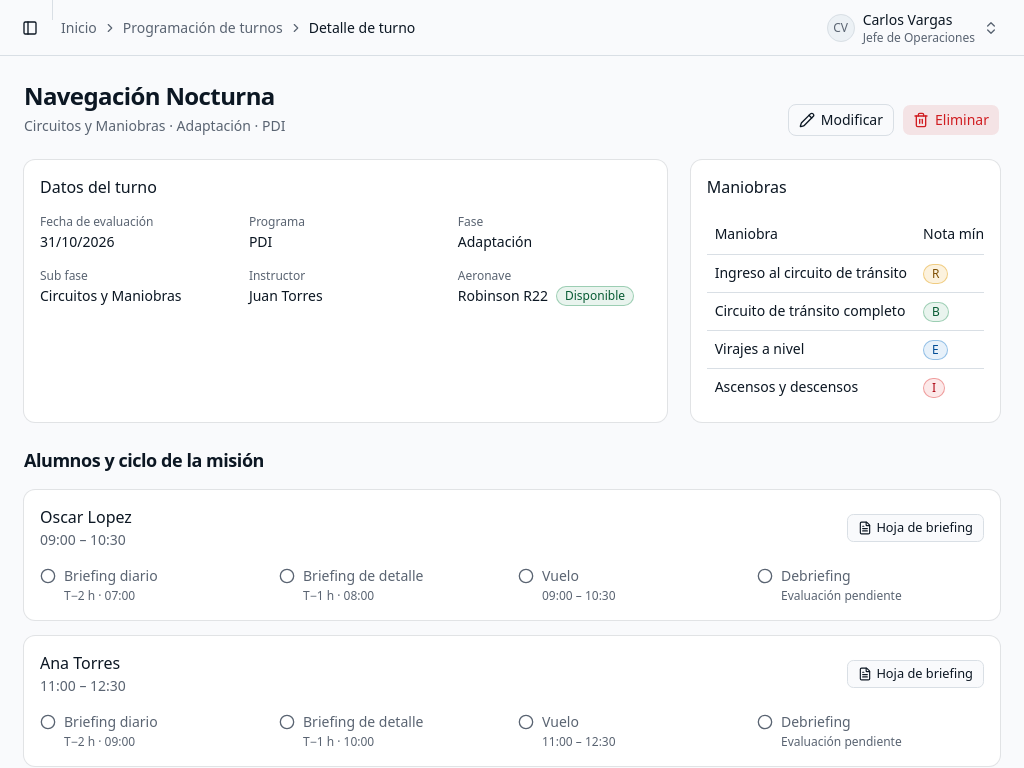
Test: Detalle de turno › M1-2 muestra el mensaje del backend cuando rechaza la eliminación
Check: the heading "Alumnos y ciclo de la misión" is shown, box left=24, top=448, right=264, bottom=472
Click the button "Eliminar" at (951, 120), box left=902, top=104, right=1000, bottom=136
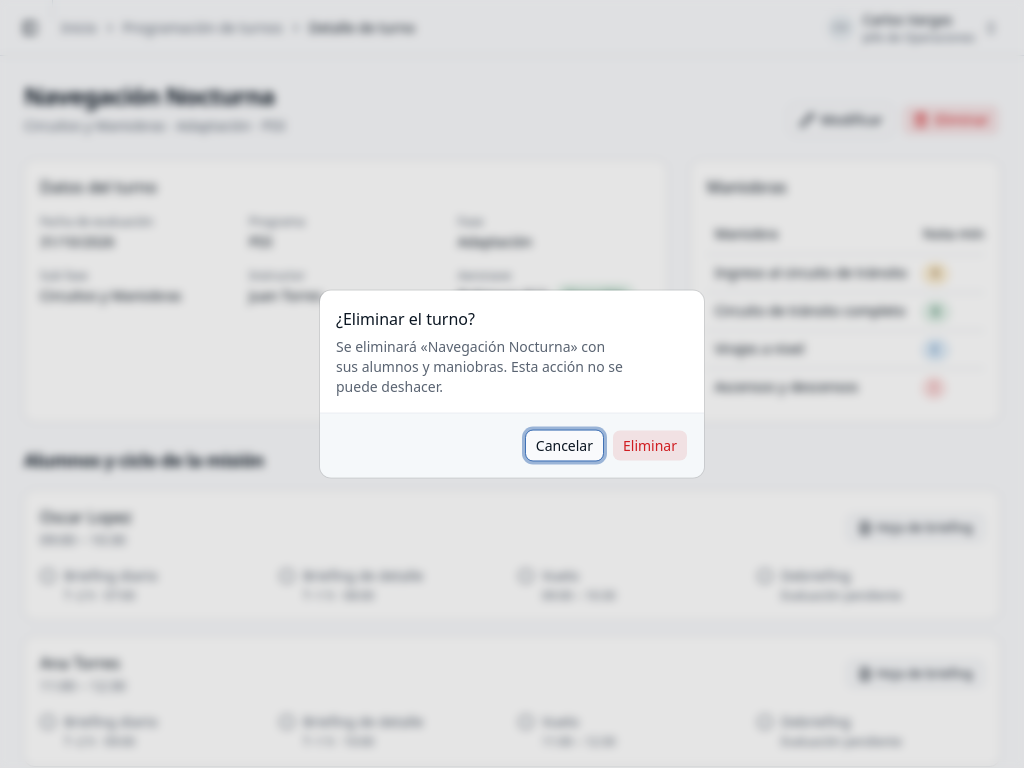
Click the button "Eliminar" at (650, 446), box left=612, top=430, right=688, bottom=462
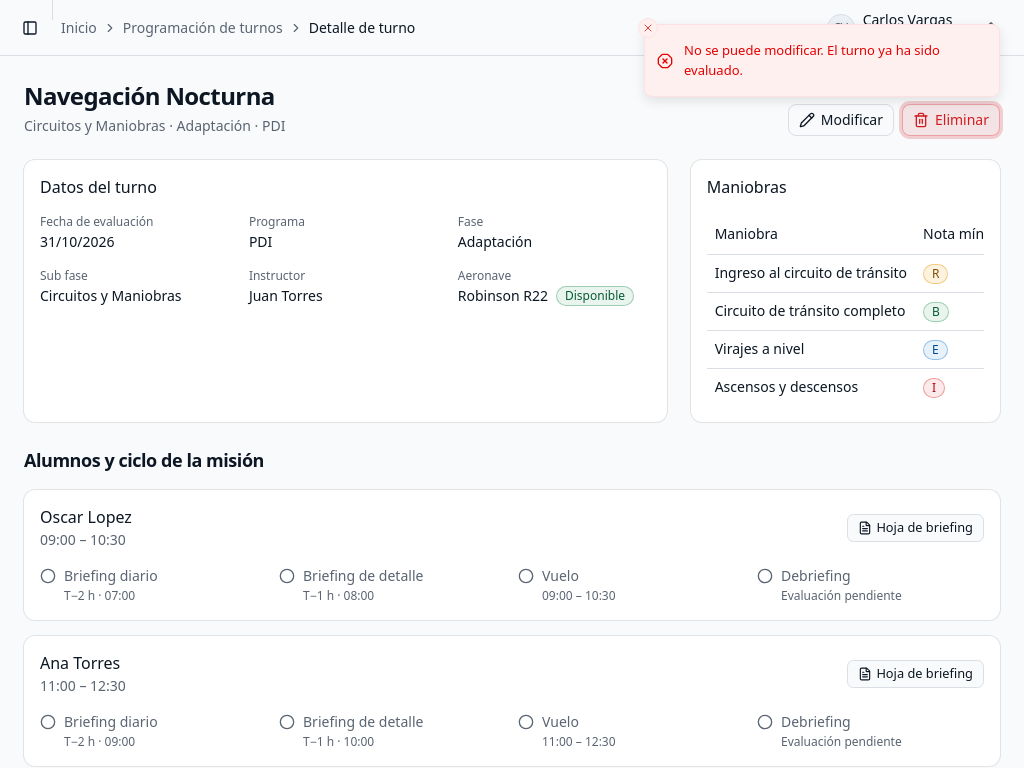
Check: the text "No se puede modificar. El turno ya ha sido evaluado." is shown, box left=684, top=41, right=983, bottom=80
